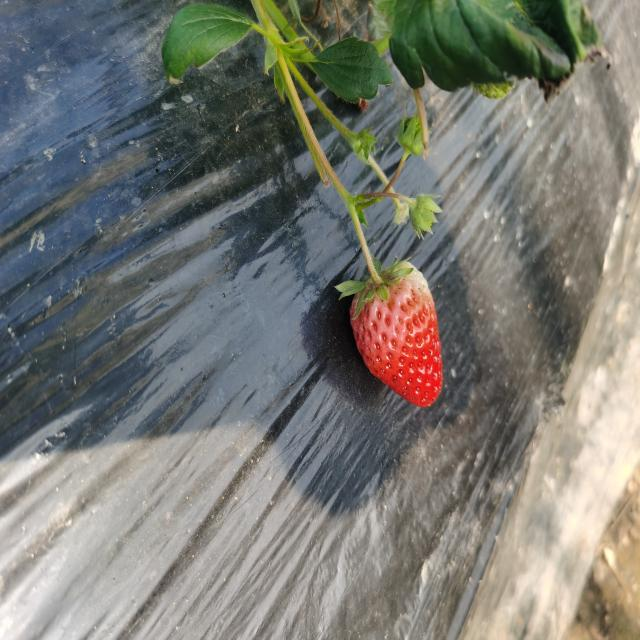stem: (356, 228, 383, 289)
strawberry: (349, 261, 443, 407)
